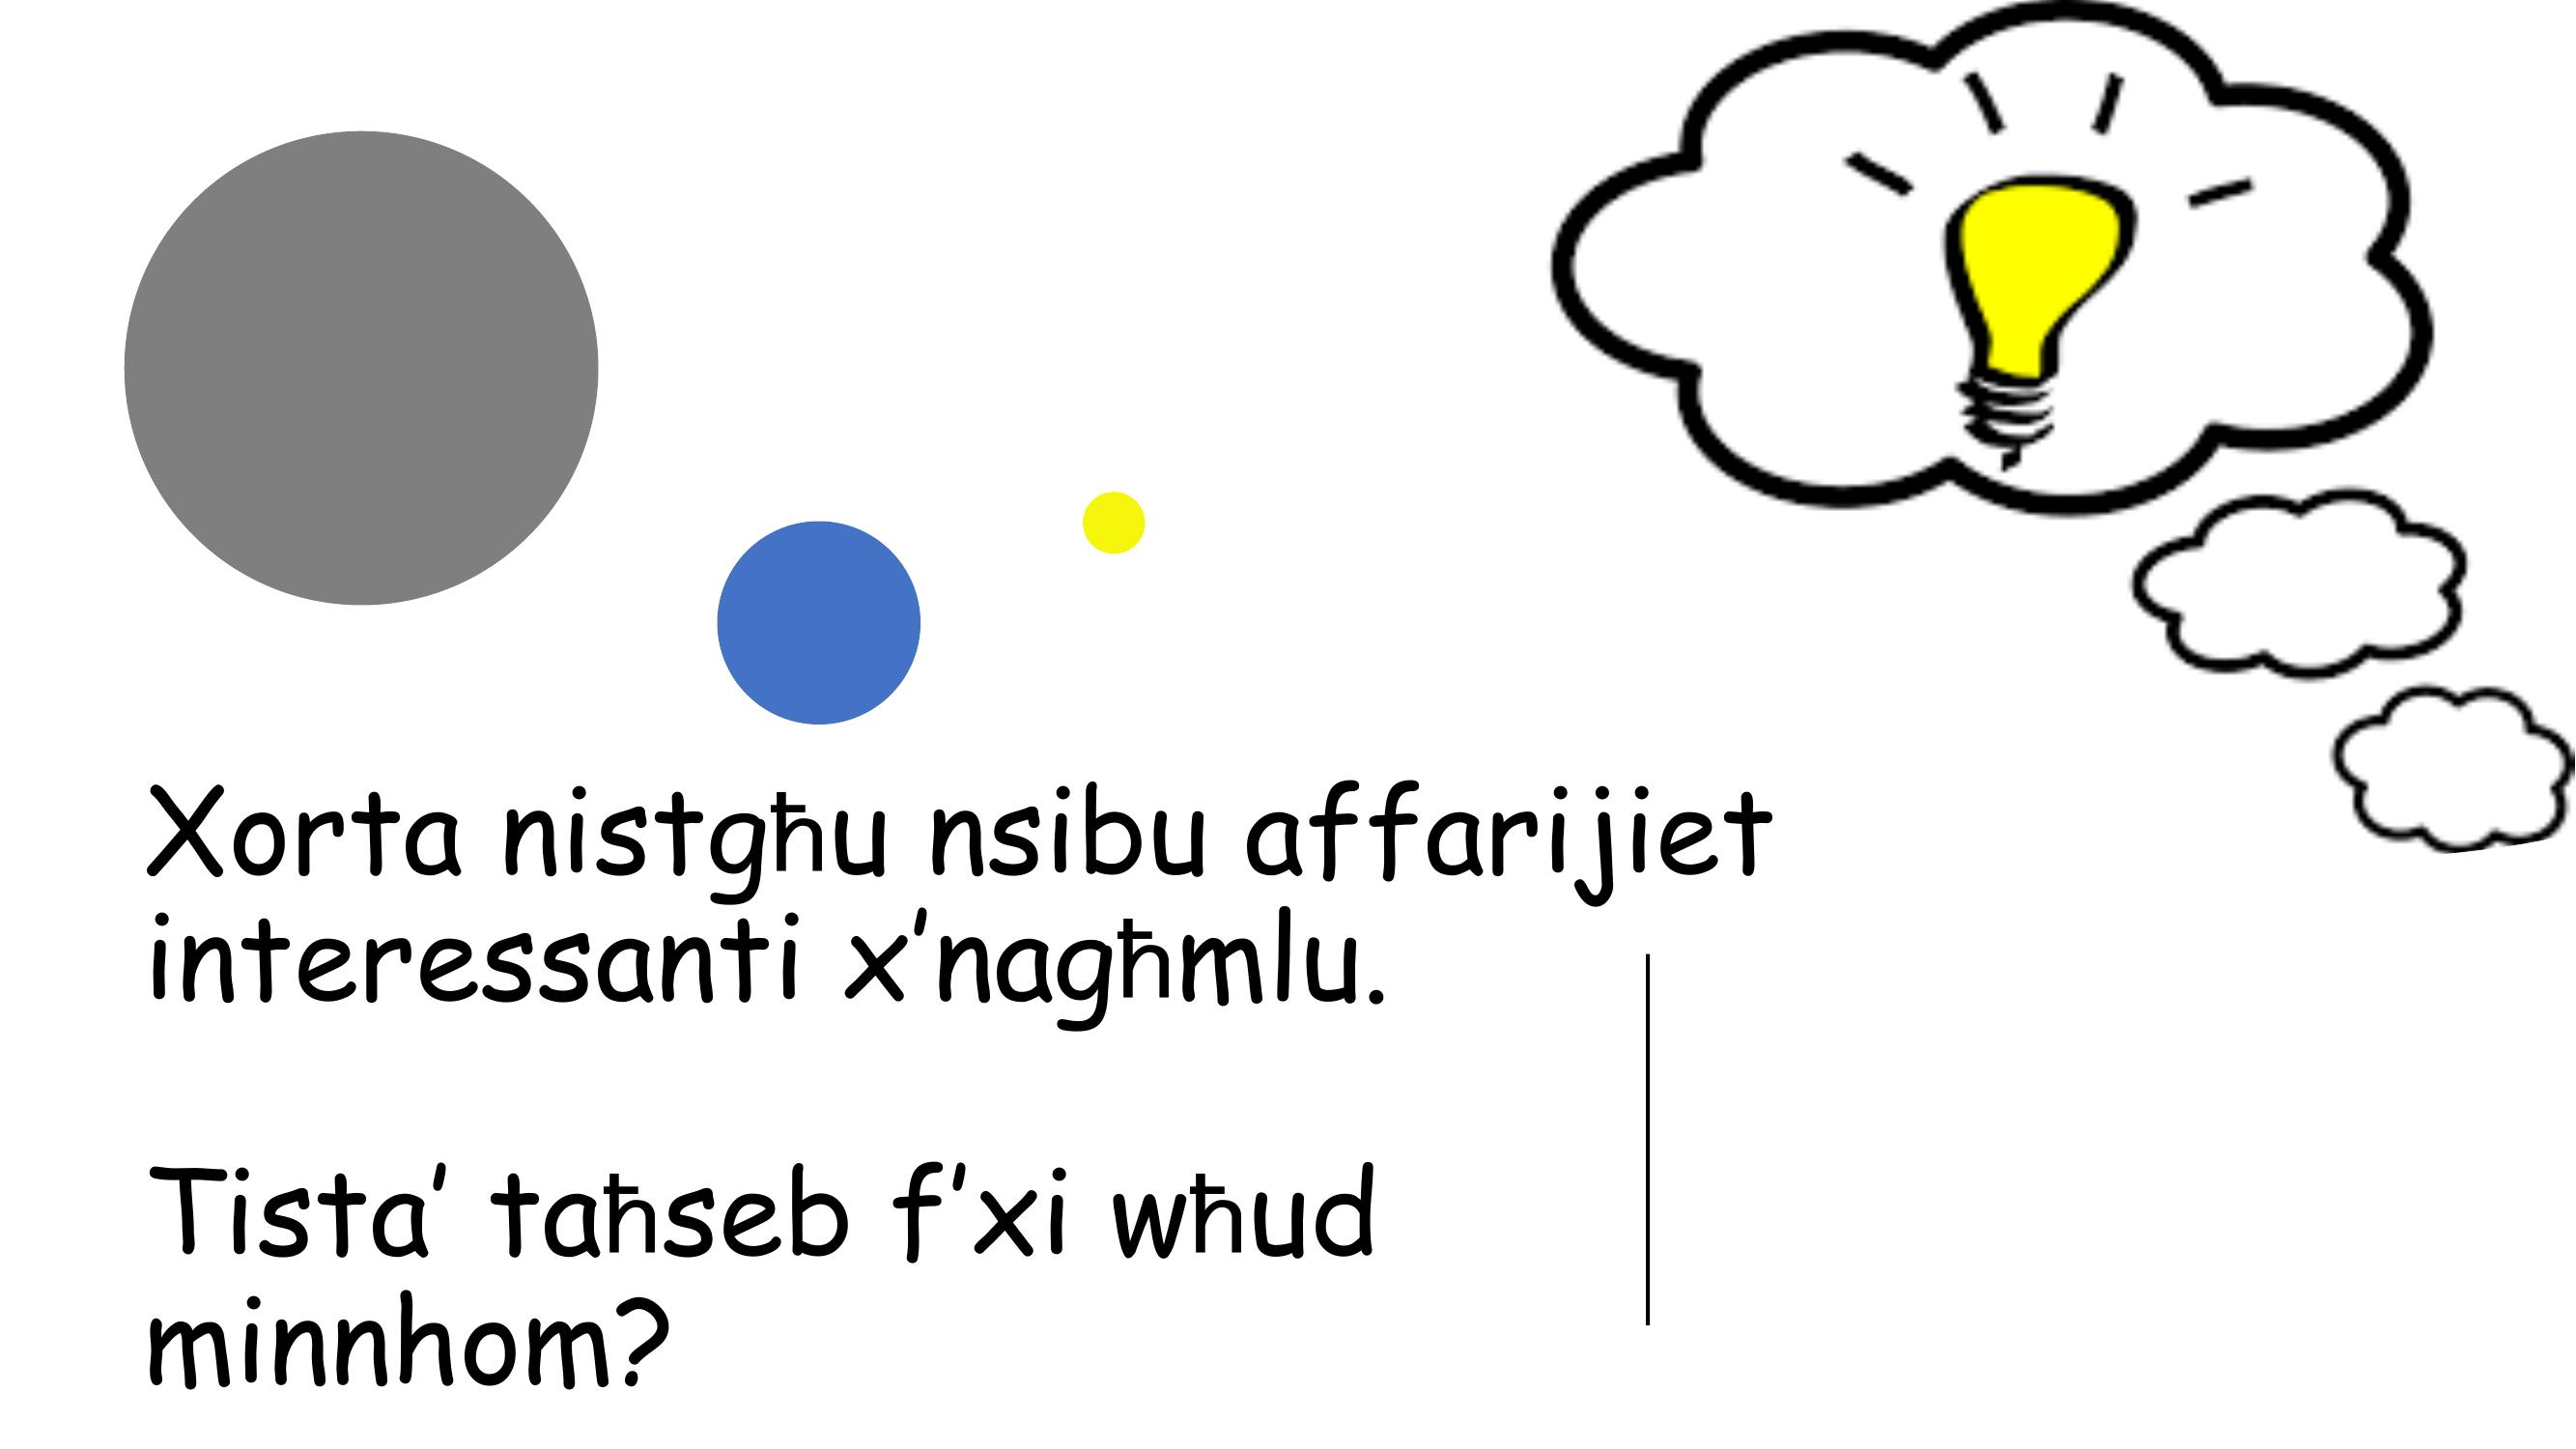text: (106, 755, 1838, 1437)
whiteout: (1619, 943, 1684, 1357)
